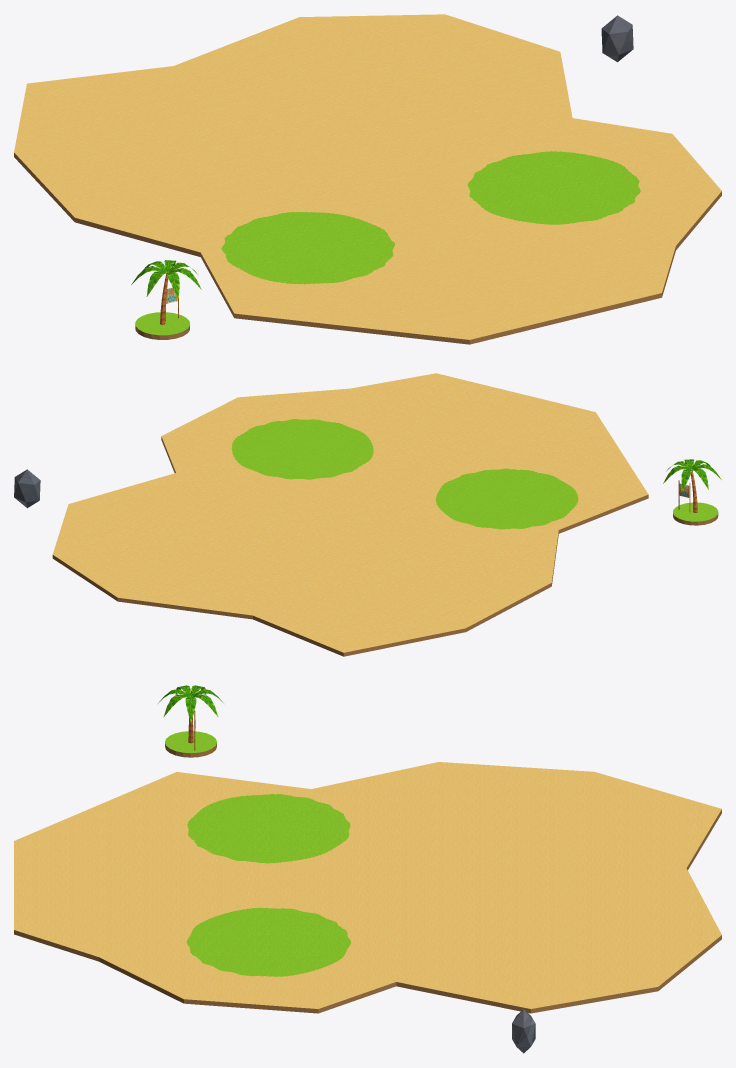
The picture shows the model from 3 angles, top to bottom: view 1: azimuth 30°, elevation 25°; view 2: azimuth 150°, elevation 25°; view 3: azimuth 270°, elevation 25°; orthographic projection. The views are drawn at different scales.
Visible parts, largest first — view 1: HI_Surface_26, FLC_Regions_26, HI_Palm.014, HI_SceneryIslet_0.015, HI_BasaltOutcrop.015; view 2: HI_Surface_26, FLC_Regions_26, HI_SceneryIslet_0.015, HI_Palm.014, HI_BasaltOutcrop.015; view 3: HI_Surface_26, FLC_Regions_26, HI_SceneryIslet_0.015, HI_Palm.014, HI_BasaltOutcrop.015.
Boxes of the visible parts, x1,y1,x2,y2 form: HI_Surface_26: [14, 14, 721, 344]; FLC_Regions_26: [221, 151, 640, 284]; HI_Palm.014: [131, 260, 201, 324]; HI_SceneryIslet_0.015: [135, 312, 189, 339]; HI_BasaltOutcrop.015: [601, 15, 633, 62]; HI_Surface_26: [52, 373, 648, 656]; FLC_Regions_26: [231, 419, 578, 529]; HI_SceneryIslet_0.015: [673, 502, 718, 525]; HI_Palm.014: [663, 459, 721, 512]; HI_BasaltOutcrop.015: [14, 469, 40, 508]; HI_Surface_26: [14, 762, 721, 1013]; FLC_Regions_26: [186, 794, 350, 976]; HI_SceneryIslet_0.015: [165, 731, 216, 757]; HI_Palm.014: [158, 685, 223, 743]; HI_BasaltOutcrop.015: [512, 1009, 535, 1053].
Bounding box in the file's own units: 47.61 × 5.15 × 46.
Materials: 7 (6 with a texture image).
